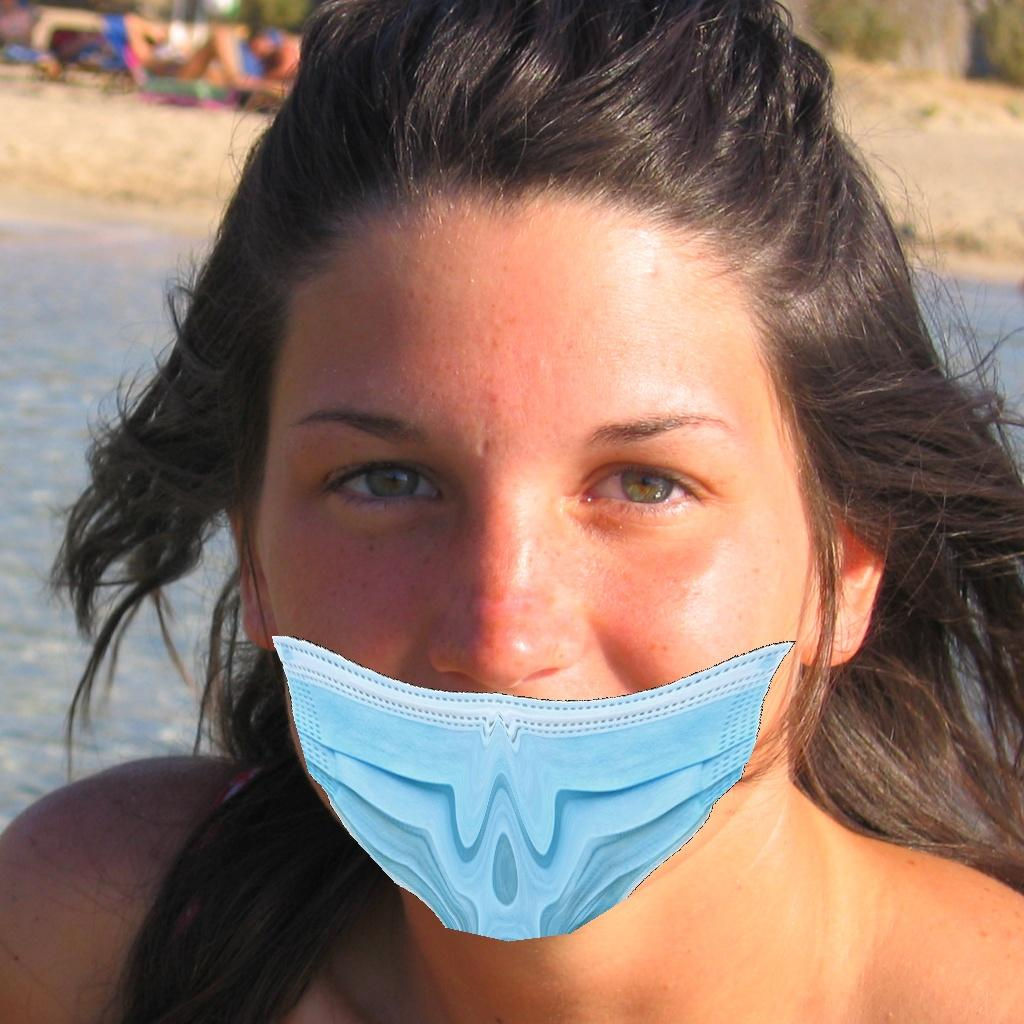Máscara Incorreta: (241, 213, 812, 917)
